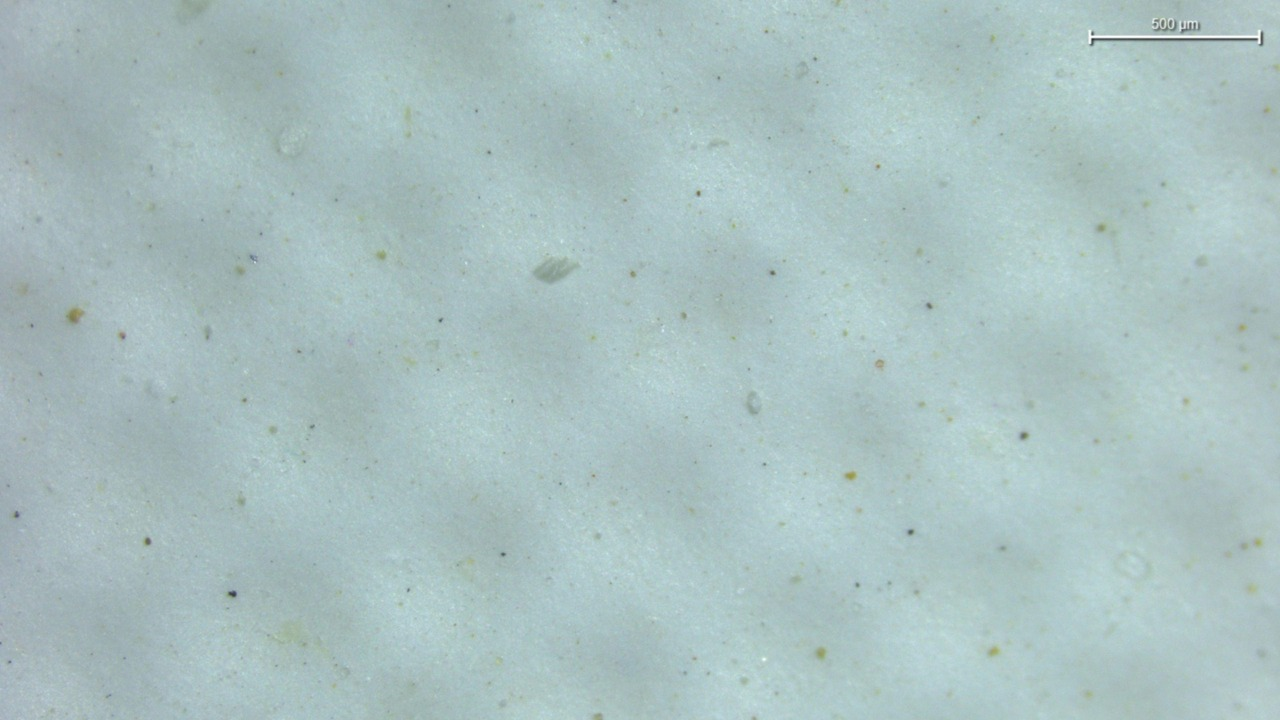microplastic_fragment: (533, 256, 580, 283)
